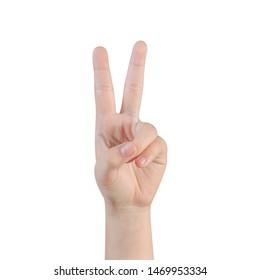peace_sign: (86, 36, 174, 212)
